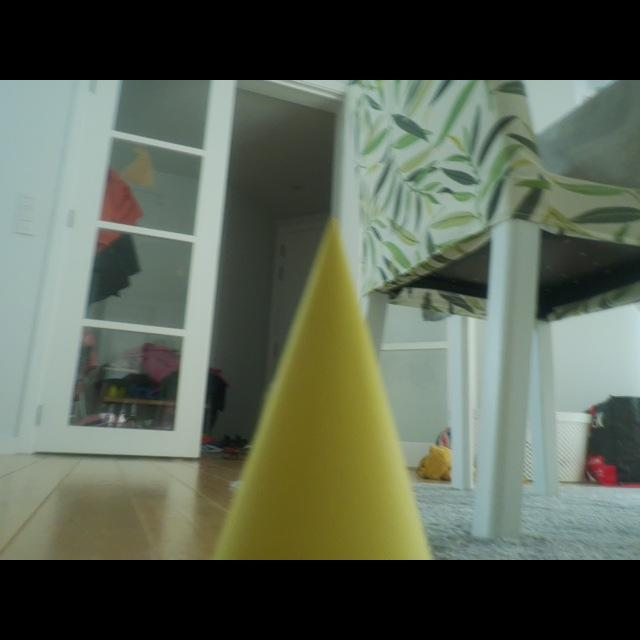bolya: (213, 220, 431, 559)
